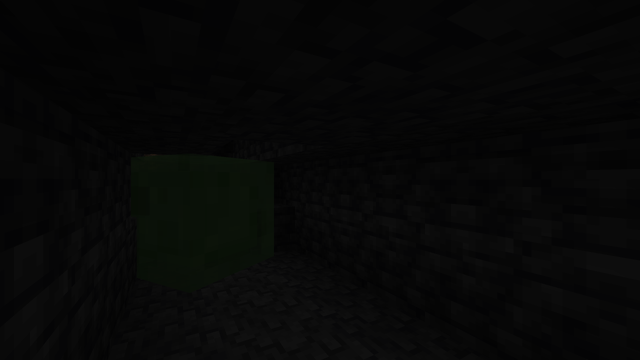slimes: (131, 152, 269, 287)
